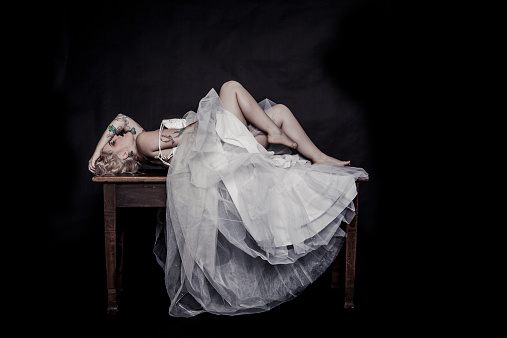deitado: (114, 55, 392, 322)
